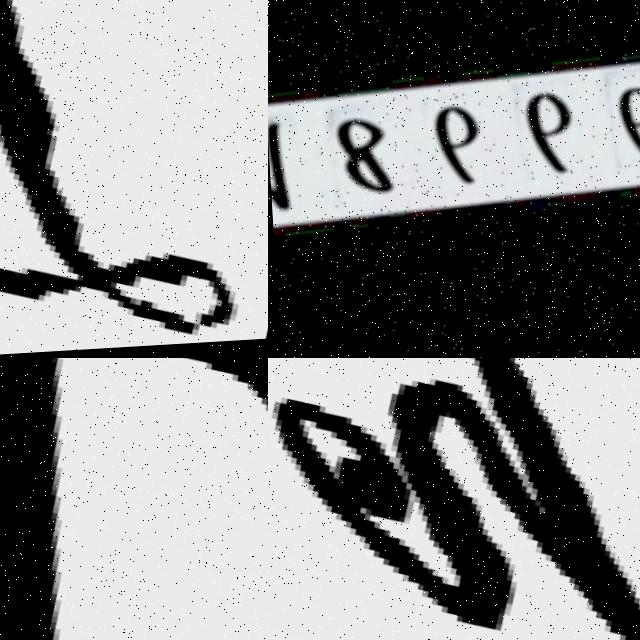1: (268, 104, 324, 239)
6: (482, 73, 601, 208), (390, 84, 508, 218), (577, 70, 640, 192)
8: (293, 89, 420, 232)
L: (0, 358, 268, 640)
Y: (268, 358, 640, 640)
